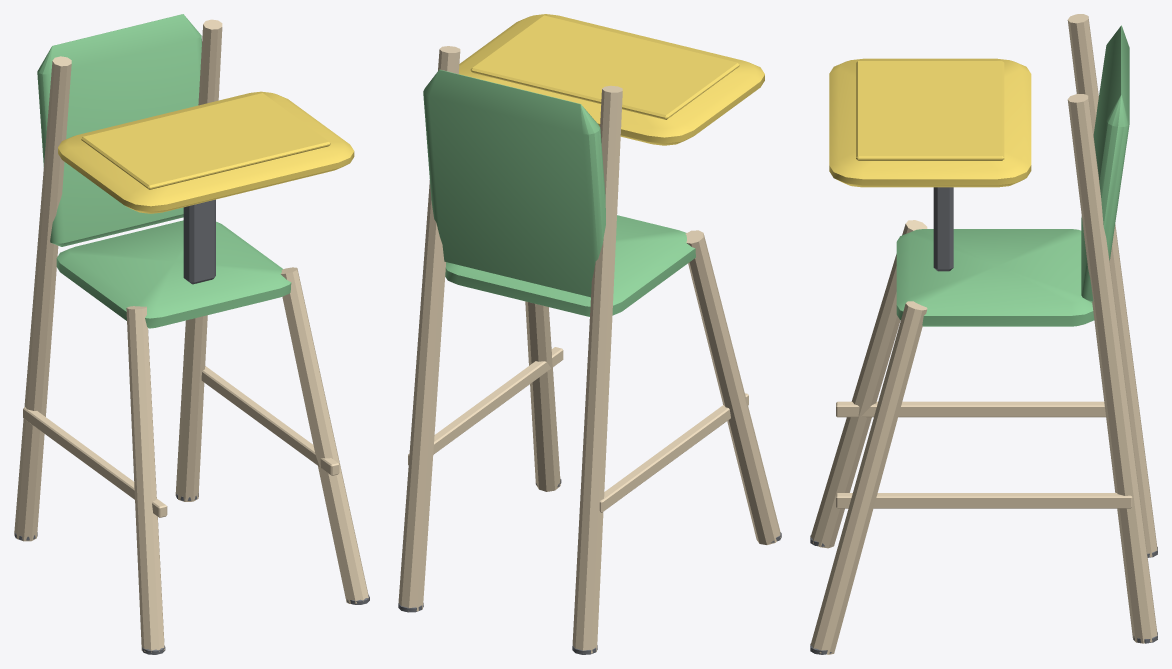
Rendered from nursery-and-primary-classroom-high-chair-36d08929__35014.glb.
3 renders of one model, left to right at view 1: azimuth 30°, elevation 25°; view 2: azimuth 150°, elevation 25°; view 3: azimuth 270°, elevation 25°, orthographic. The views are drawn at different scales.
Visible parts, largest first — view 1: high-chair, chair-tray; view 2: high-chair, chair-tray; view 3: high-chair, chair-tray.
Part boxes in pixels (box(x1,y1,x2,y2)): high-chair: box(14, 14, 369, 654); chair-tray: box(58, 91, 354, 213); high-chair: box(398, 46, 781, 654); chair-tray: box(459, 14, 764, 145); high-chair: box(810, 14, 1157, 654); chair-tray: box(829, 58, 1031, 187).
Bounding box in the file's own units: 0.42 × 0.8868 × 0.5165.
